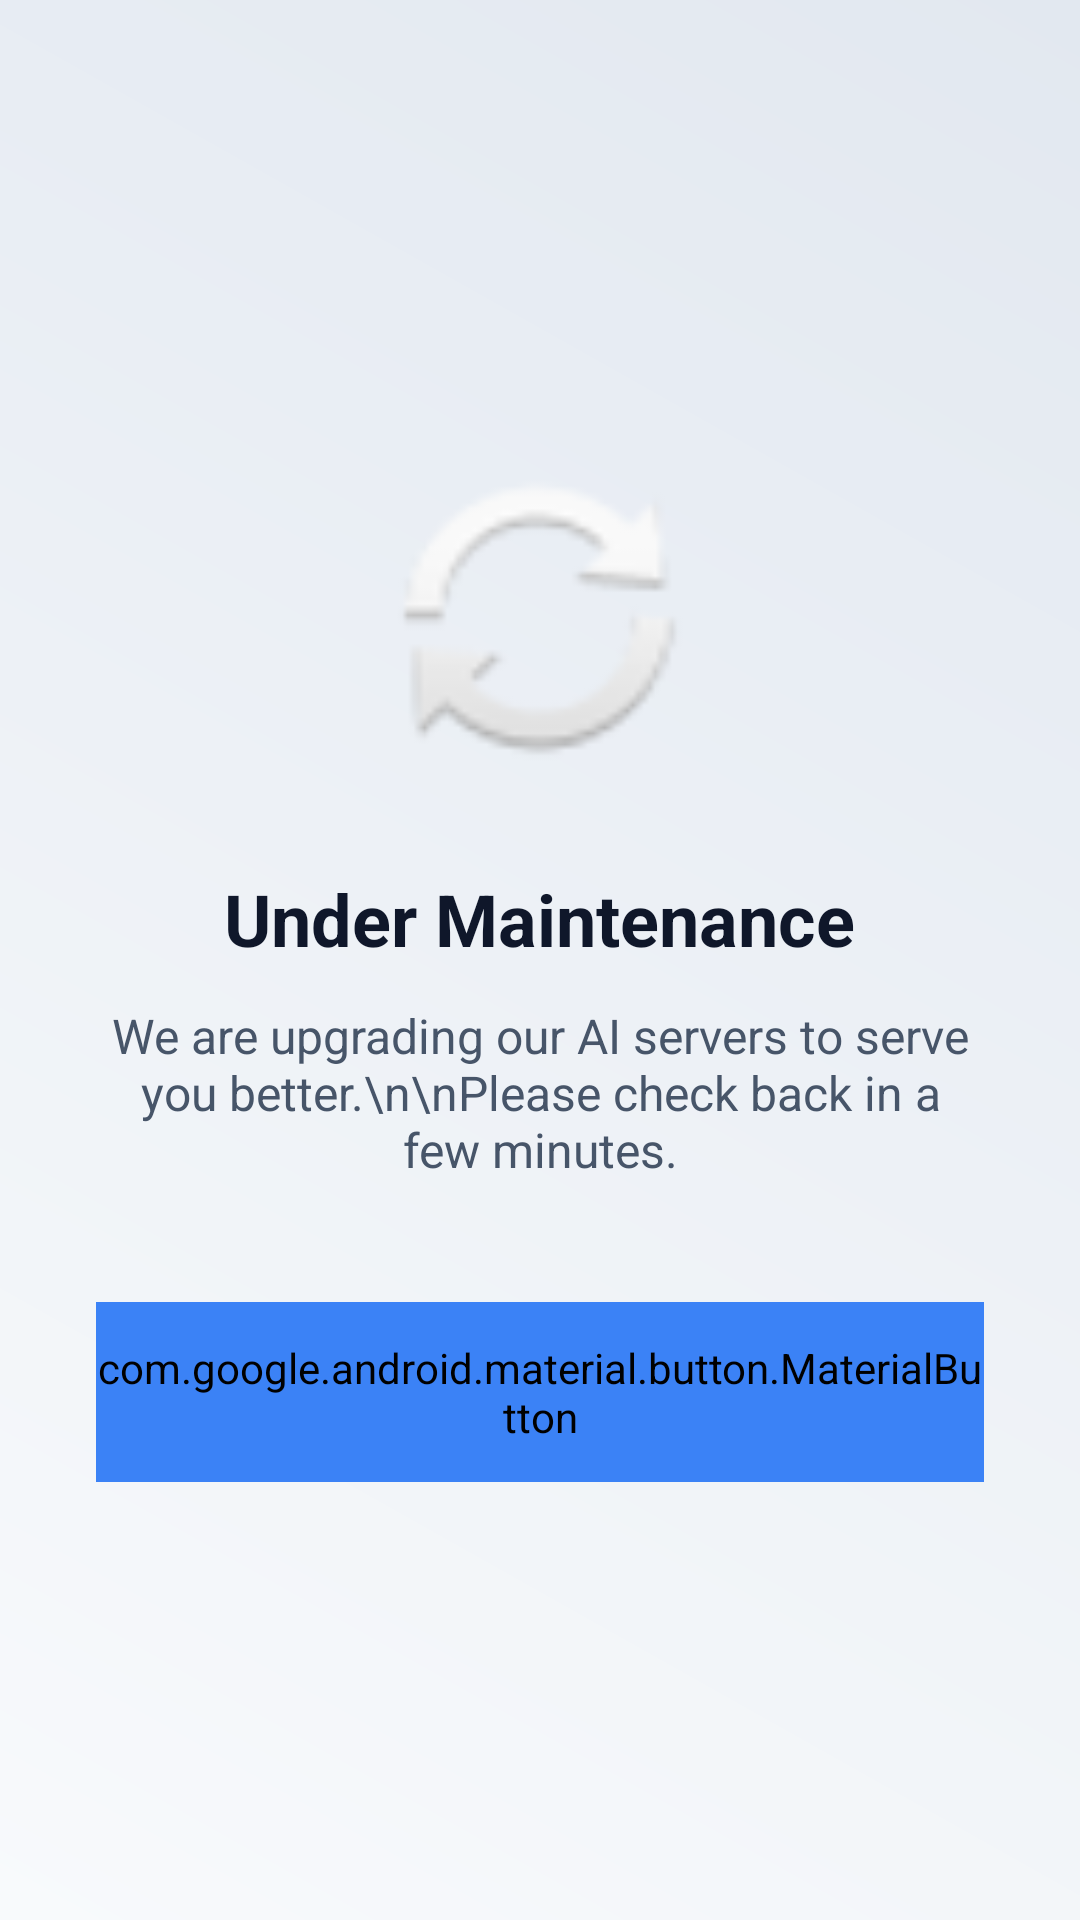

Icon click points for this 1080 × 1920 phone screenshot, format (x=x, y=y):
popup sync: (x=535, y=634)
